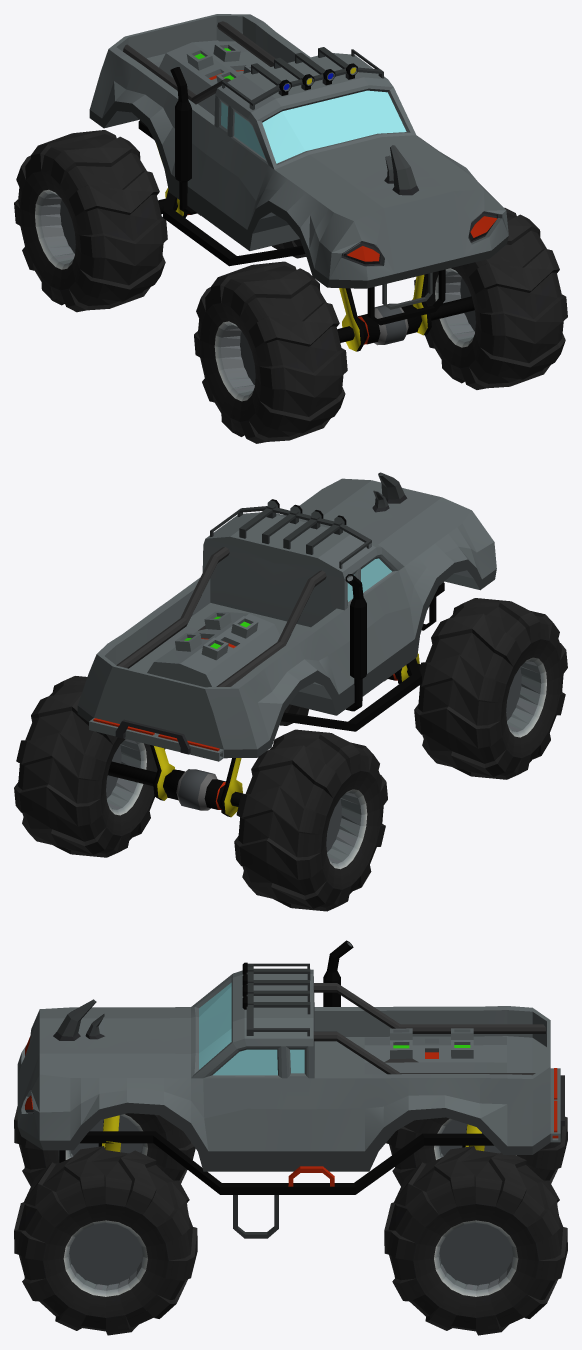
The model's file is truck 8.fbx.
The picture shows the model from 3 angles, top to bottom: view 1: azimuth 30°, elevation 25°; view 2: azimuth 150°, elevation 25°; view 3: azimuth 270°, elevation 25°; orthographic projection. The views are drawn at different scales.
Visible parts, largest first — view 1: Monster_Truck_Body_12_Rhino_0, Wheel_FR_12_Rhino_0, Wheel_FR_12_Rhino_0.002, Wheel_FR_12_Rhino_0.001, Axel_Front_12_Rhino_0; view 2: Monster_Truck_Body_12_Rhino_0, Wheel_FR_12_Rhino_0.002, Wheel_FR_12_Rhino_0, Wheel_FR_12_Rhino_0.003, Axel_Back_12_Rhino_0; view 3: Monster_Truck_Body_12_Rhino_0, Wheel_FR_12_Rhino_0.001, Wheel_FR_12_Rhino_0.003, Wheel_FR_12_Rhino_0, Wheel_FR_12_Rhino_0.002.
Part boxes in pixels (x1,y1,x2,y2): Monster_Truck_Body_12_Rhino_0: (89, 14, 508, 325); Wheel_FR_12_Rhino_0: (194, 261, 347, 443); Wheel_FR_12_Rhino_0.002: (14, 130, 167, 312); Wheel_FR_12_Rhino_0.001: (414, 207, 567, 389); Axel_Front_12_Rhino_0: (337, 274, 474, 351); Monster_Truck_Body_12_Rhino_0: (77, 472, 496, 761); Wheel_FR_12_Rhino_0.002: (234, 729, 387, 911); Wheel_FR_12_Rhino_0: (414, 598, 567, 779); Wheel_FR_12_Rhino_0.003: (14, 676, 165, 857); Axel_Back_12_Rhino_0: (108, 745, 243, 817); Monster_Truck_Body_12_Rhino_0: (17, 940, 564, 1238); Wheel_FR_12_Rhino_0.001: (14, 1146, 197, 1335); Wheel_FR_12_Rhino_0.003: (384, 1146, 567, 1335); Wheel_FR_12_Rhino_0: (14, 1106, 195, 1186); Wheel_FR_12_Rhino_0.002: (386, 1116, 567, 1186).
Bounding box in the file's own units: 32.61 × 29.27 × 50.56.
1 material, 1 textured.
